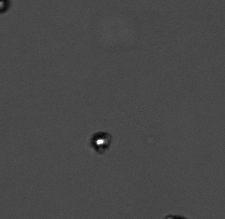Living Cell: (90, 131, 113, 151), (1, 1, 10, 16)
